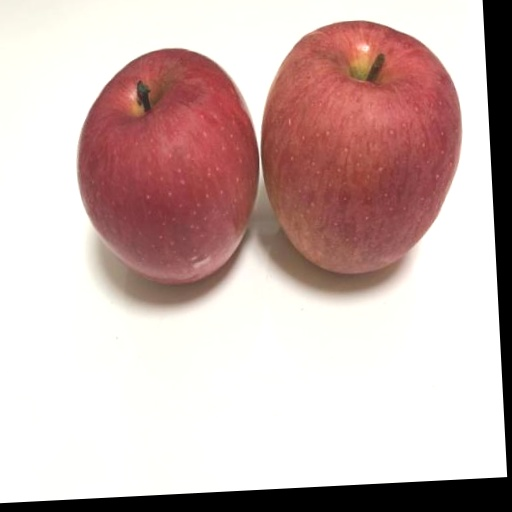fruit: (262, 21, 461, 272), (77, 49, 259, 283)
